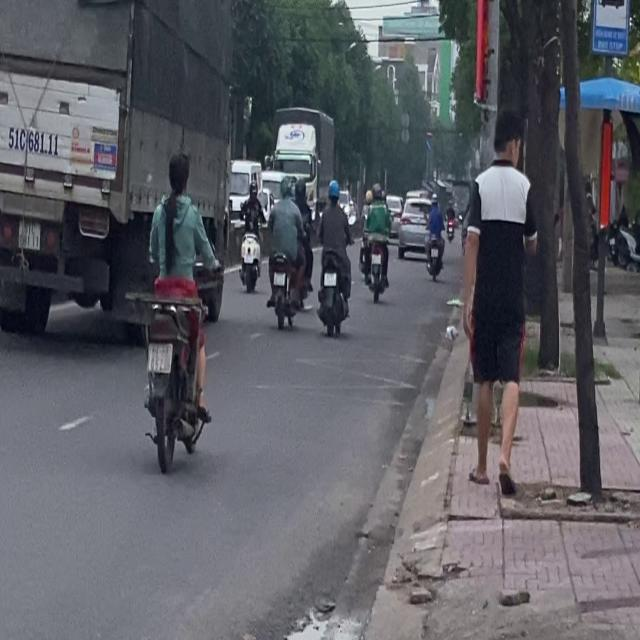licenseplate: (138, 148, 215, 471)
motorcyclist: (166, 151, 190, 195)
nohelmet: (148, 343, 171, 371)
